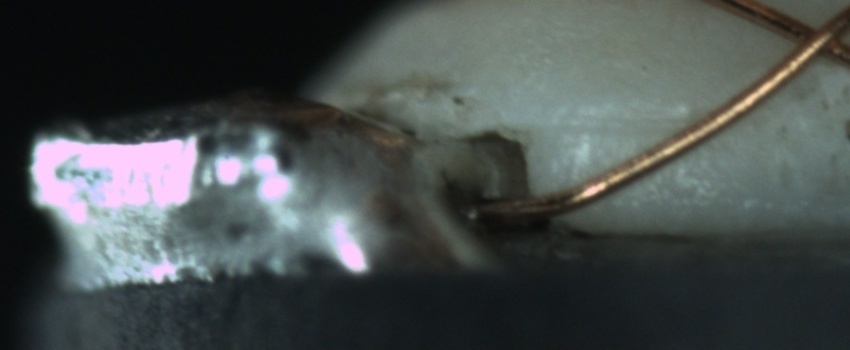CL: (772, 3, 848, 71)
DL: (556, 89, 700, 161)
